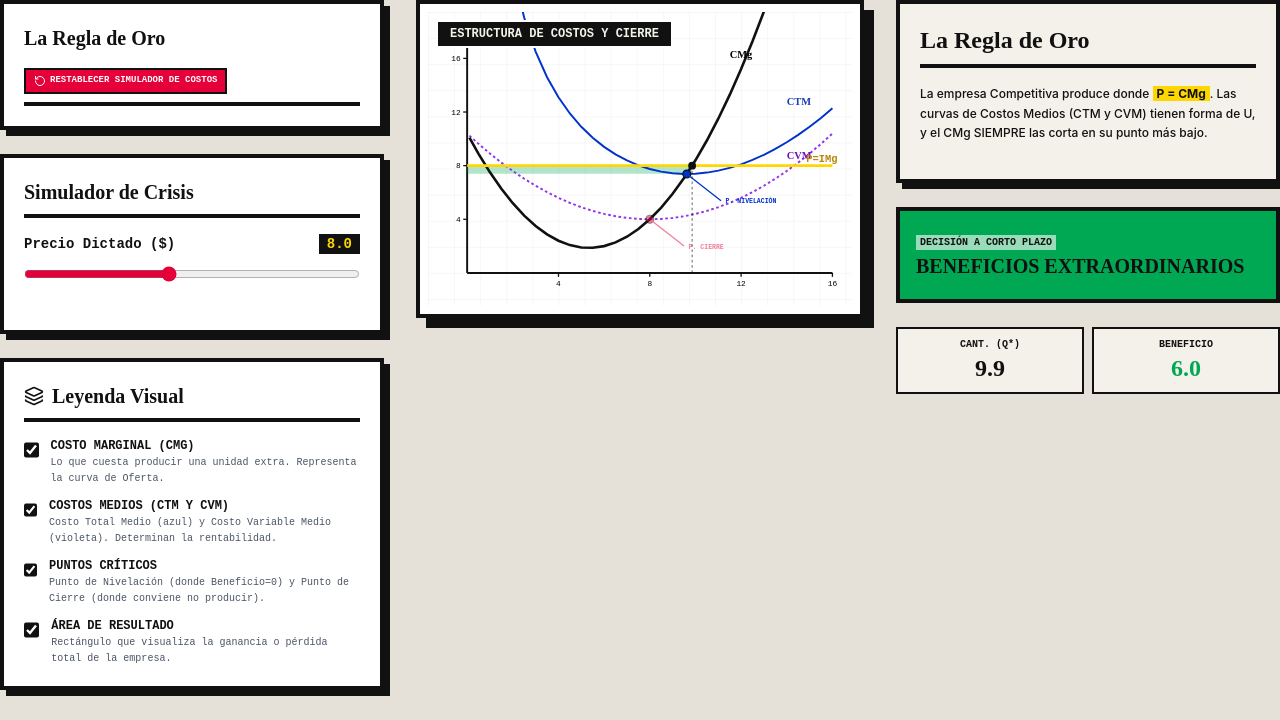
Test: Costos integration › resets controls to defaults
Set the slider to "14" at (306, 274), box top-left (24, 268), bottom-right (360, 280)
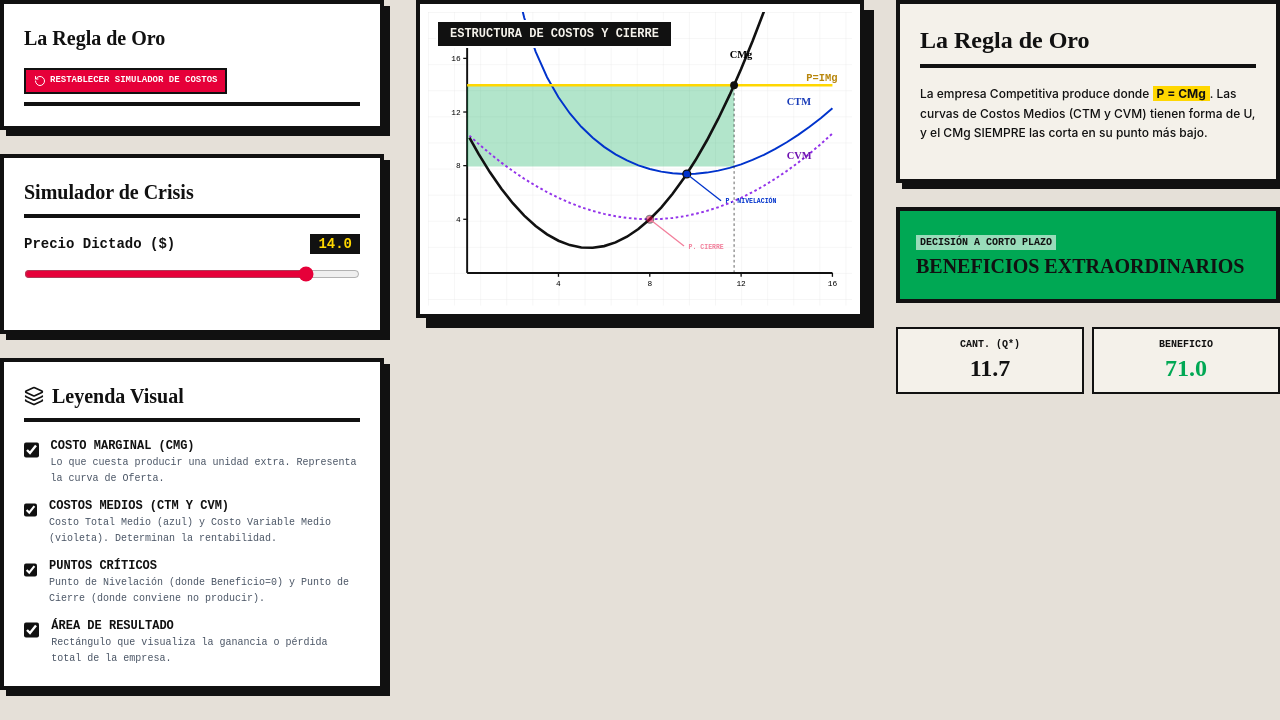
Now the text "14.0" is shown, box top-left (310, 234), bottom-right (360, 254)
Click the button labelled "Restablecer simulador de costos" at (126, 81), box top-left (24, 68), bottom-right (227, 94)
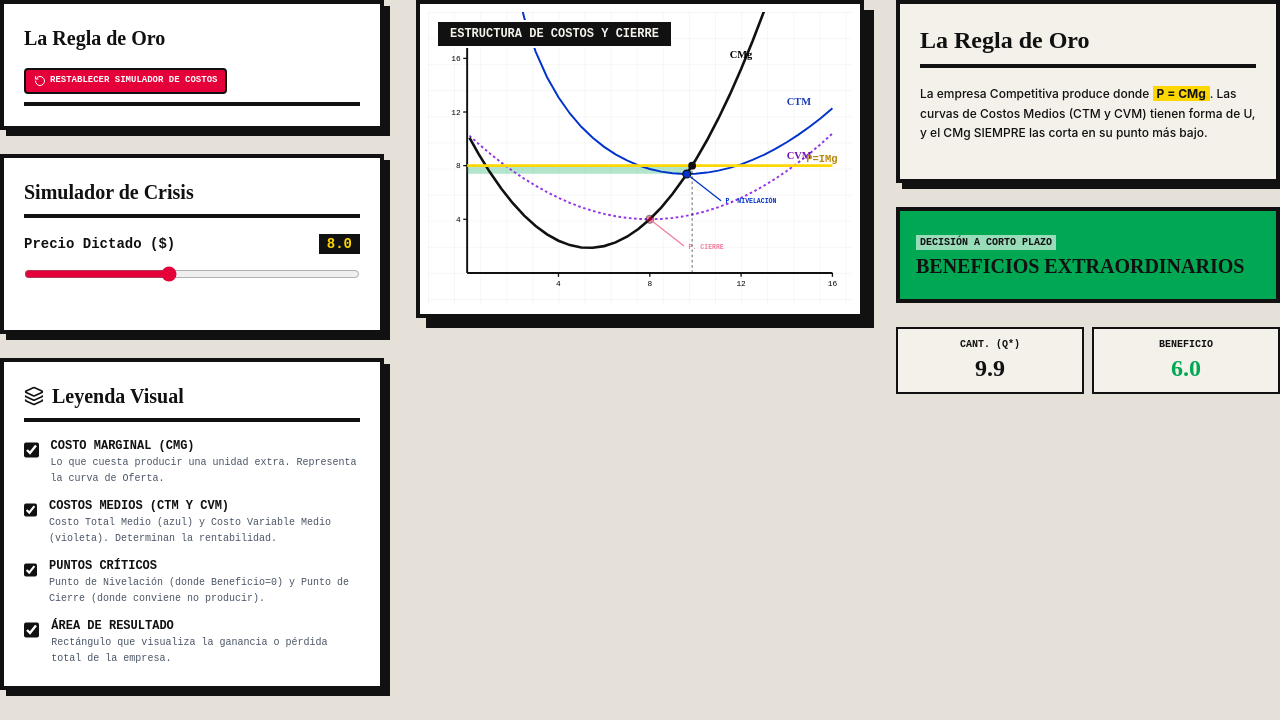
Now the text "8.0" is shown, box top-left (319, 234), bottom-right (360, 254)
Now the slider holds "8", box top-left (24, 268), bottom-right (360, 280)
